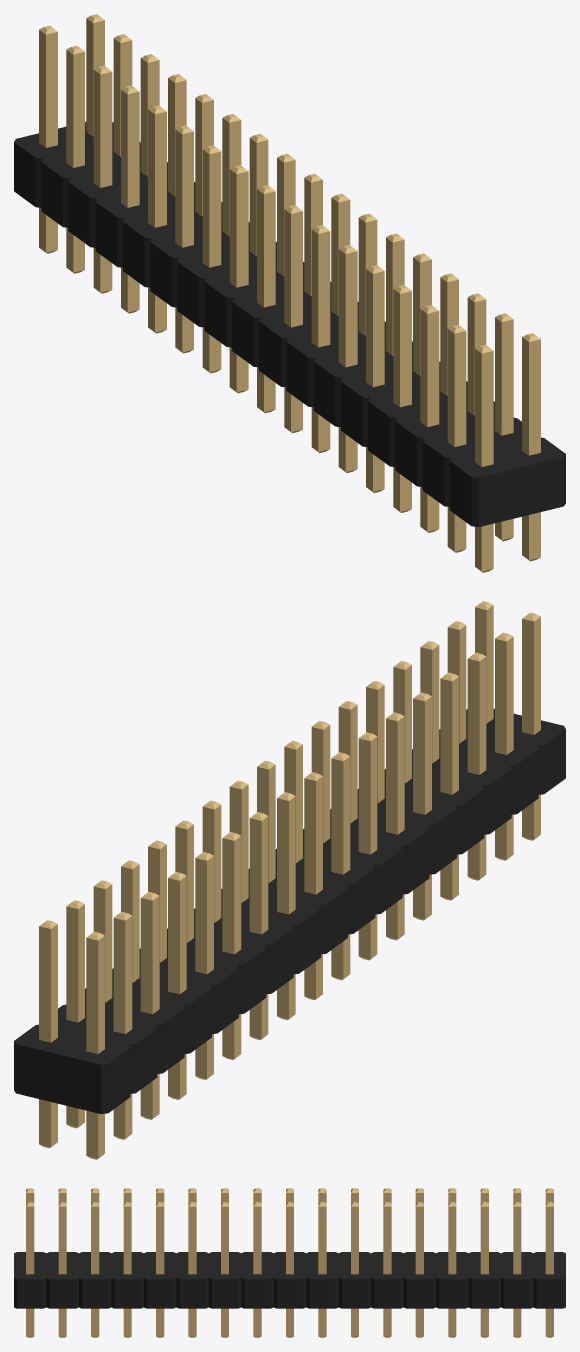
The model's file is kc-pinheader_2x17_p2.54mm_vertical.glb.
3 views of the same model, one above another, from view 1: azimuth 30°, elevation 25°; view 2: azimuth 150°, elevation 25°; view 3: azimuth 270°, elevation 25° (orthographic). The views are drawn at different scales.
Parts seen in each view (by area): view 1: 0.75_0.5_0.25_0.9, 0_0_0_0; view 2: 0.75_0.5_0.25_0.9, 0_0_0_0; view 3: 0_0_0_0, 0.75_0.5_0.25_0.9.
Part boxes in pixels (x1,y1,x2,y2): 0.75_0.5_0.25_0.9: (39, 14, 540, 572); 0_0_0_0: (14, 122, 565, 526); 0.75_0.5_0.25_0.9: (39, 601, 540, 1159); 0_0_0_0: (14, 709, 565, 1113); 0_0_0_0: (14, 1252, 565, 1308); 0.75_0.5_0.25_0.9: (26, 1188, 553, 1337).
Bounding box in the file's own units: 0.5081 × 1.15 × 4.32.
